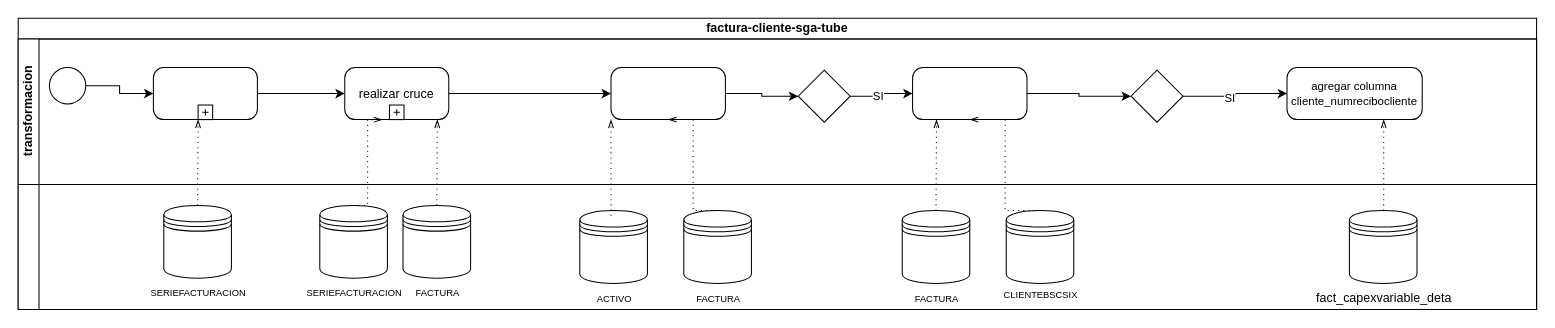
Image size: 1555x328. Some labels were removed from this diagram. The shapes that lost their labels are listed below. From the top down, each one's box as (x1, y1, x2, y2) in pixels, then its label:
(152, 67, 257, 120): filtrar registro
(610, 67, 725, 120): realizar cruce LEFT JOIN
(797, 69, 850, 122): ID_1000=ID_CUSTOMER
(912, 67, 1027, 120): realizar cruce INNER JOIN
(1130, 69, 1183, 122): CP.ID_54=B.OHREFDATE AND CP.ID_1001=BSCS7
(17, 184, 1537, 309): data
